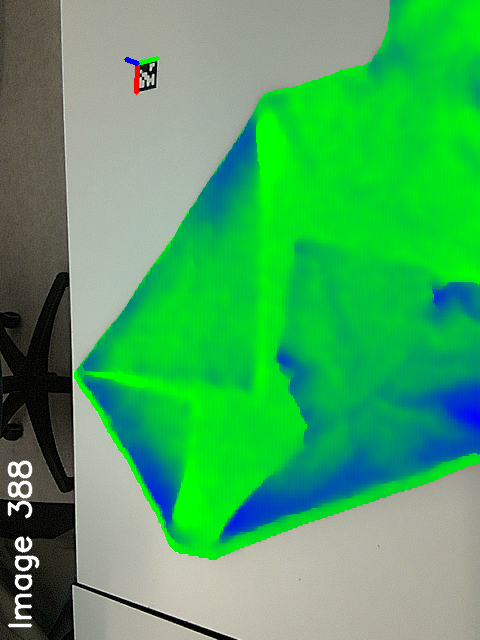V: (280, 225, 340, 275), (151, 387, 199, 444), (217, 343, 265, 398)
